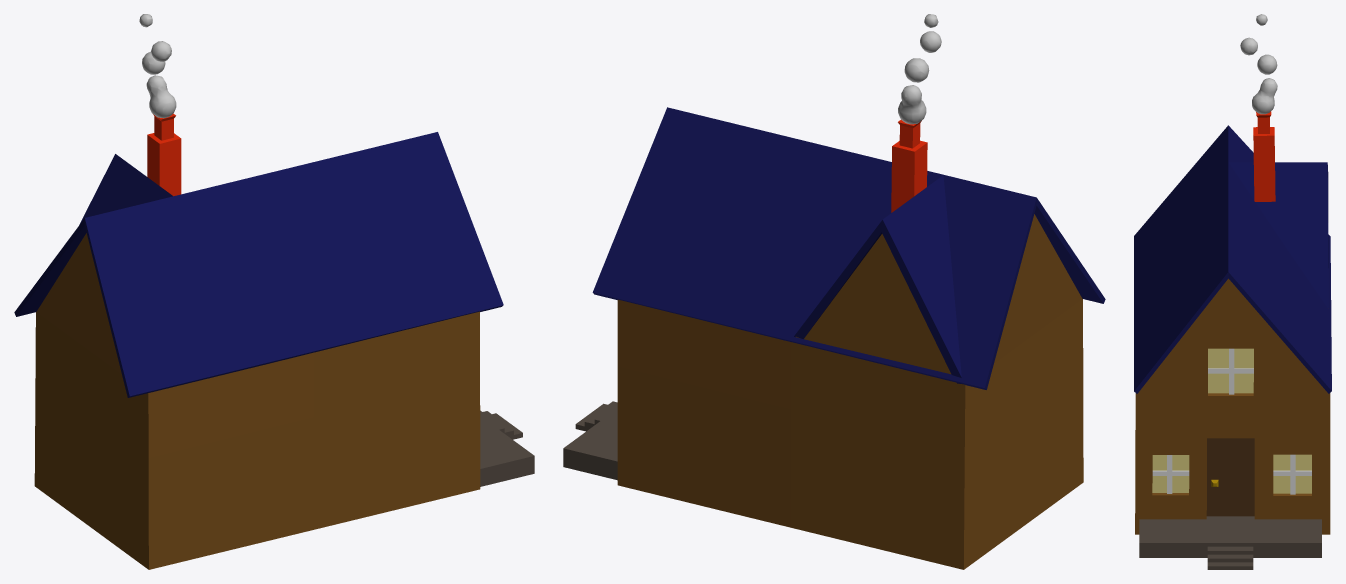
File: House1.fbx
3 views of the same model, side by side, from view 1: azimuth 30°, elevation 25°; view 2: azimuth 150°, elevation 25°; view 3: azimuth 270°, elevation 25° (orthographic). The views are drawn at different scales.
Visible parts, largest first — view 1: Cube.030; view 2: Cube.030; view 3: Cube.030.
Boxes of the visible parts, bbox=[...] form: Cube.030: bbox=[14, 14, 534, 569]; Cube.030: bbox=[563, 14, 1105, 569]; Cube.030: bbox=[1134, 14, 1331, 569].
Bounding box in the file's own units: 2088 × 2212 × 963.
